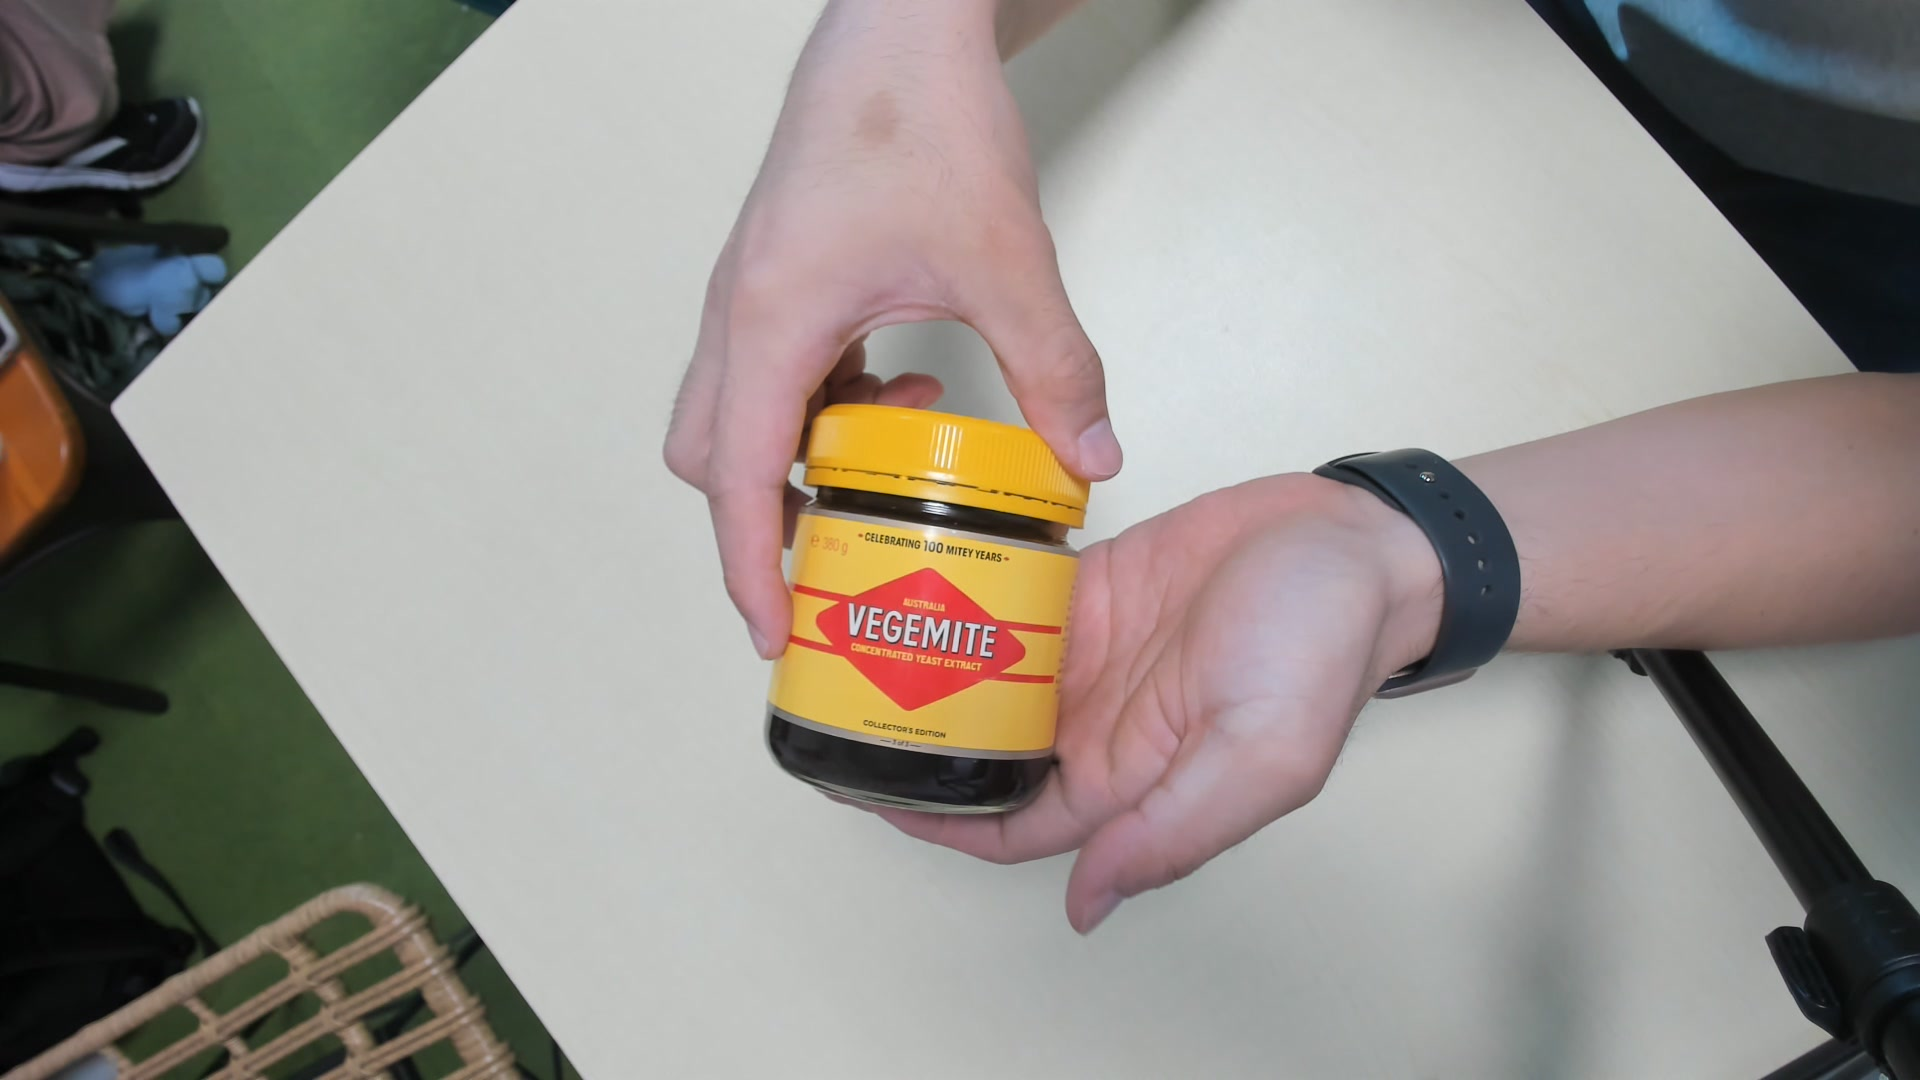OtherSauceDressing_300-399g_Halal_NonHealthy: (756, 400, 1097, 814)
